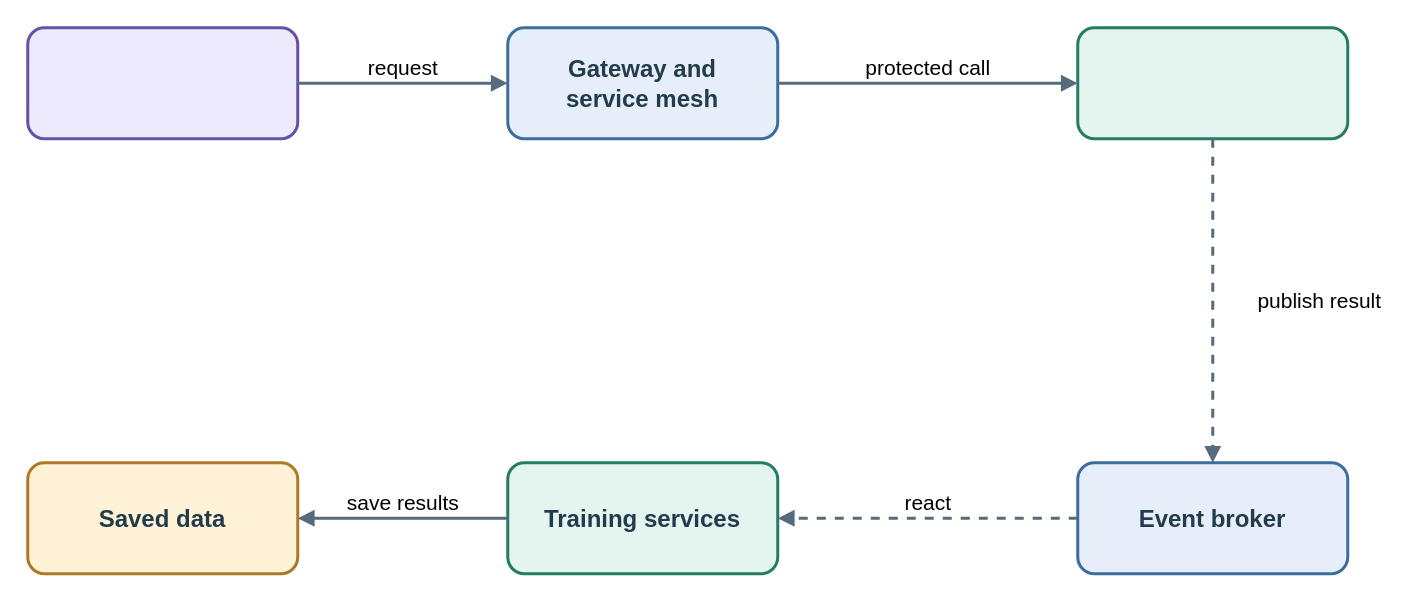
This 1407x600 diagram has some shape labels left out. Each missing label, with the centre of its shape:
"Image processing service" belongs at point (1212, 83).
"View and view model" belongs at point (162, 83).
